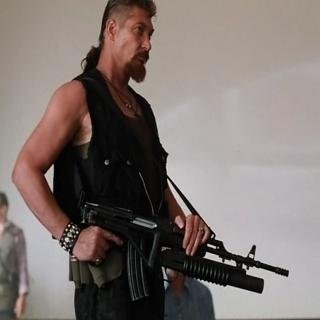gun: (64, 178, 289, 300)
